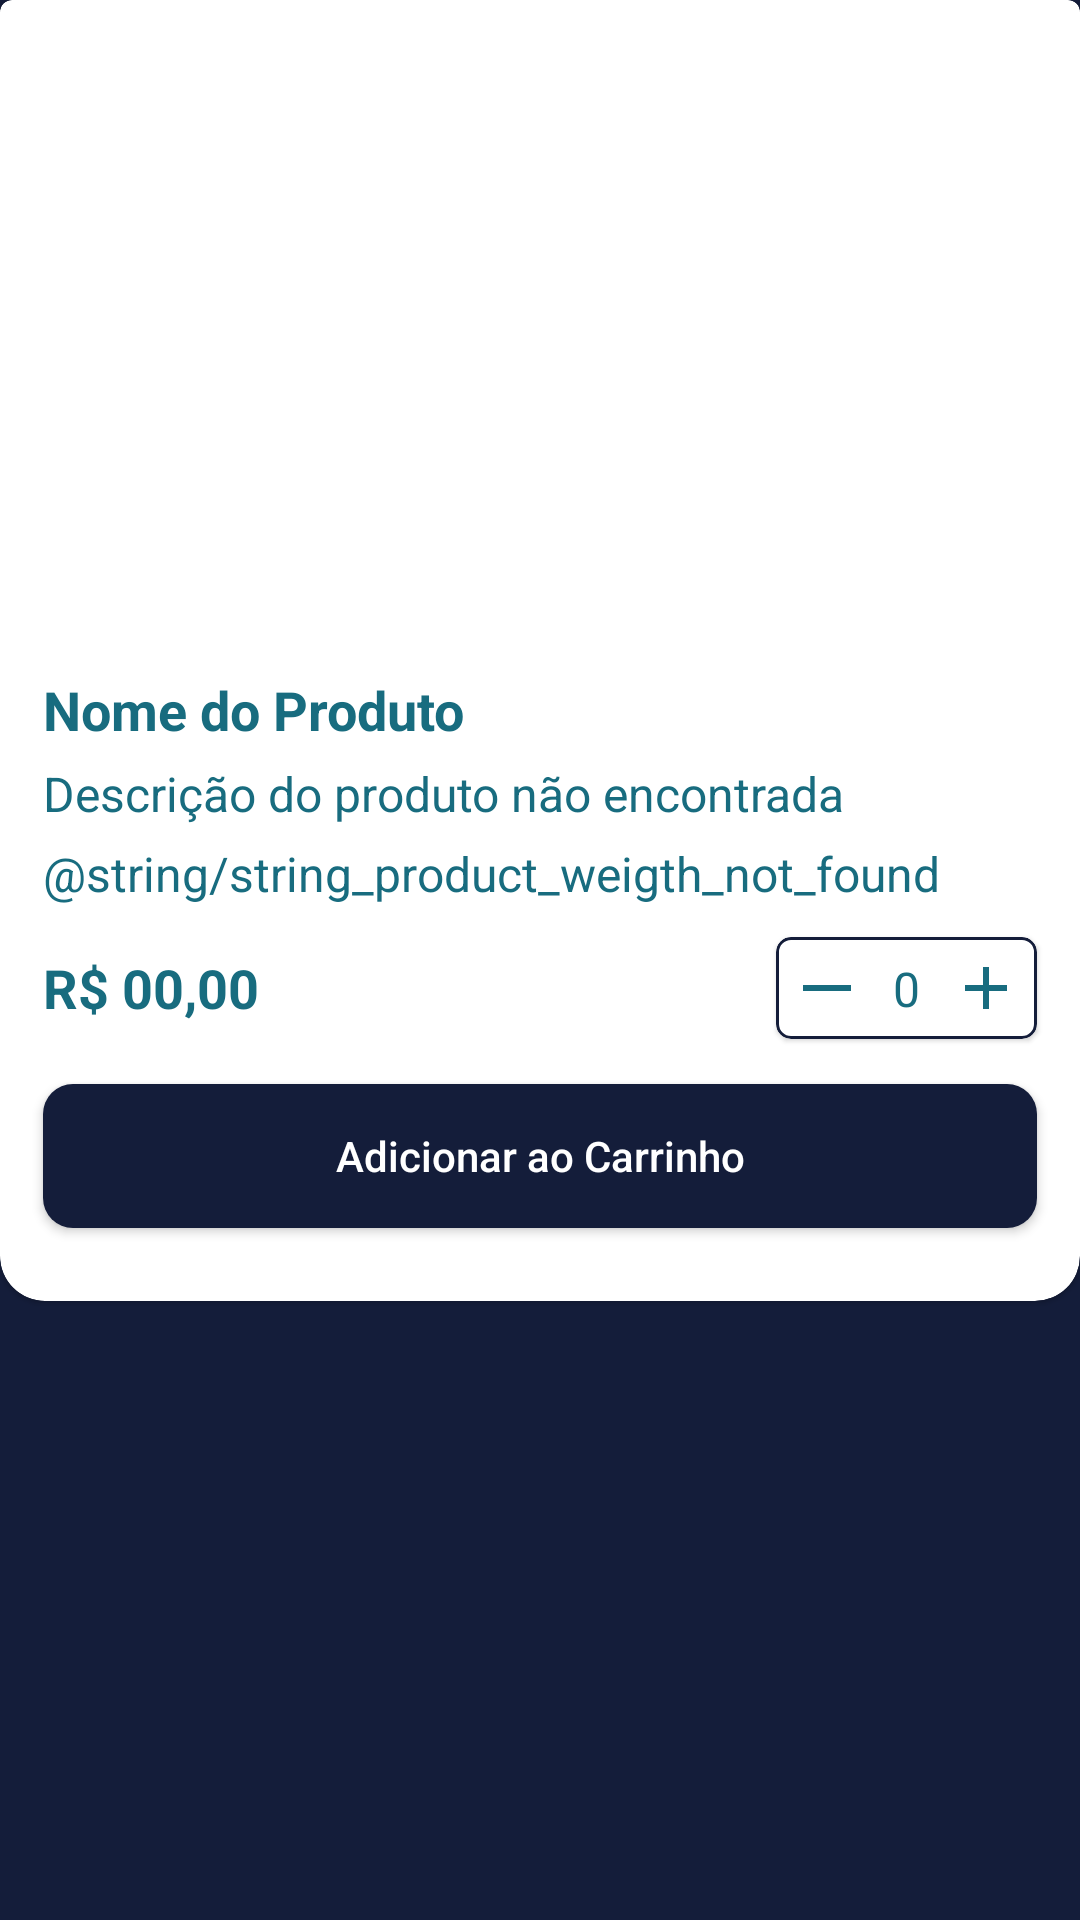

Locate icon controls on the screen. Image size 1080 × 1920, boxes as bbox=[x1, y1, x2, y2].
add: bbox=[965, 967, 1007, 1009]
